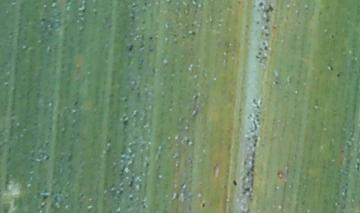tarspot: (78, 1, 89, 14), (121, 114, 130, 128), (126, 43, 135, 52), (328, 32, 336, 41), (231, 178, 238, 187), (267, 3, 274, 12), (200, 201, 207, 209), (257, 1, 265, 8), (264, 15, 271, 23), (335, 72, 342, 79), (191, 30, 197, 37), (147, 35, 154, 41), (328, 64, 332, 72)
